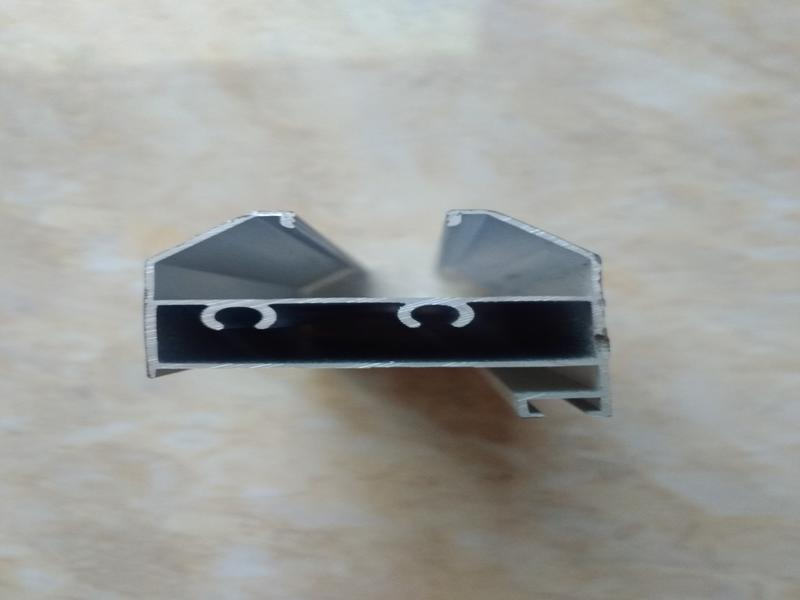Aluminium_3: (108, 154, 657, 458)
